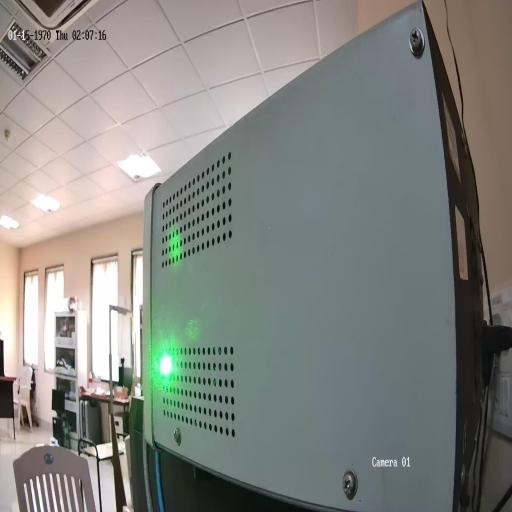laser: (158, 351, 173, 381)
